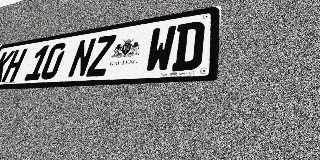0: (39, 42, 68, 80)
1: (24, 44, 52, 81)
D: (171, 20, 205, 71)
H: (1, 48, 28, 82)
K: (0, 50, 15, 83)
N: (67, 37, 97, 78)
W: (144, 25, 177, 73)
Z: (86, 34, 117, 77)
